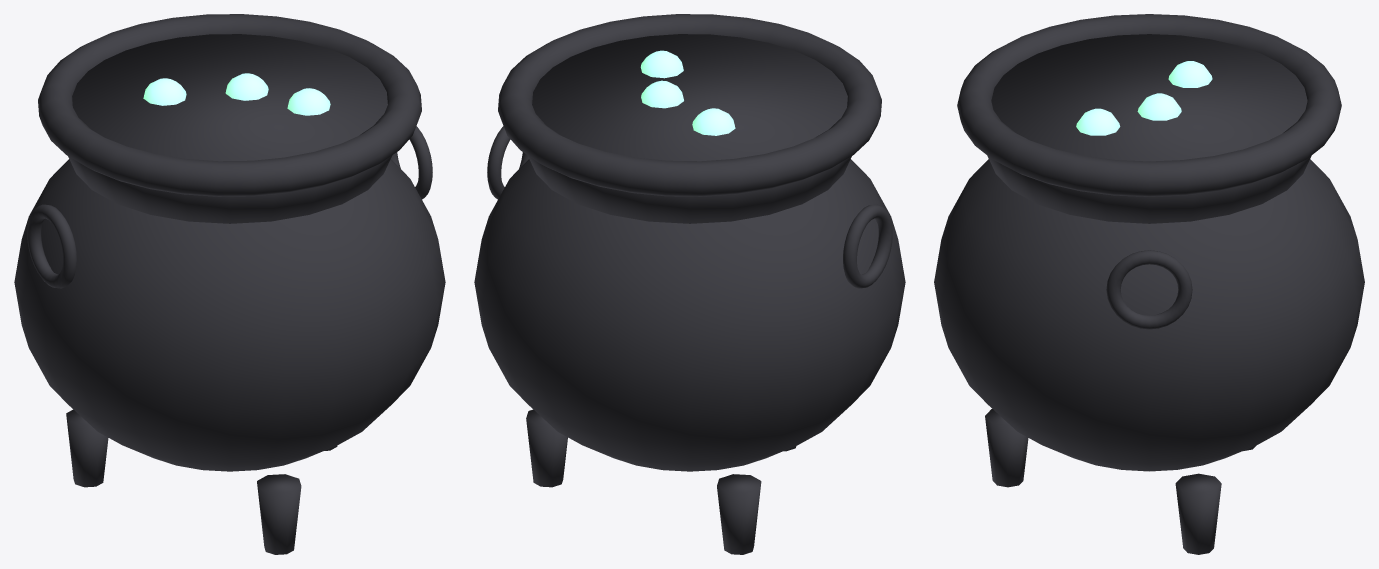
The model's file is cauldron.glb.
The picture shows the model from 3 angles, left to right: view 1: azimuth 30°, elevation 25°; view 2: azimuth 150°, elevation 25°; view 3: azimuth 270°, elevation 25°; orthographic projection.
Visible parts, largest first — view 1: GD_cauldron; view 2: GD_cauldron; view 3: GD_cauldron.
Boxes of the visible parts, x1,y1,x2,y2 form: GD_cauldron: (14,14,445,554); GD_cauldron: (474,14,905,554); GD_cauldron: (934,14,1364,554).
Size of the model in its own units: 0.84 by 0.875 by 0.84.
